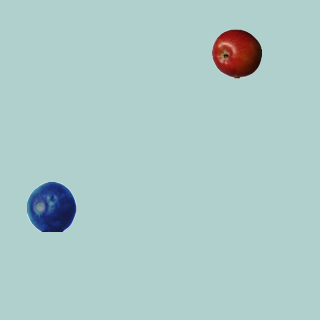Apple Braeburn: (211, 28, 261, 78)
Huckleberry: (26, 181, 76, 231)
